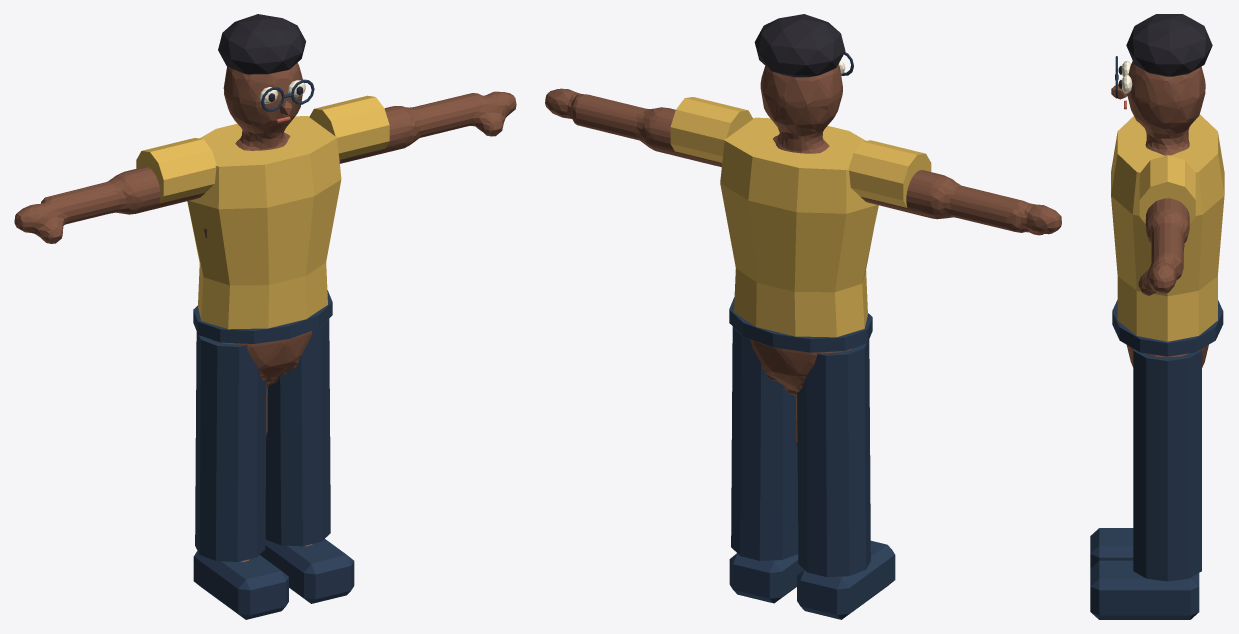
File: Civilian_03.fbx
3 renders of one model, left to right at view 1: azimuth 30°, elevation 25°; view 2: azimuth 150°, elevation 25°; view 3: azimuth 270°, elevation 25°, orthographic. The views are drawn at different scales.
Parts seen in each view (by area): view 1: Shirt.002, Civilian_03_Base_BaseMale_TPose_Body, PantsLeg.004, PantsLeg.005, Shoe.004, HairCap.002, Shoe.005, Sleeve.004, Sleeve.005, Belt.002; view 2: Shirt.002, Civilian_03_Base_BaseMale_TPose_Body, PantsLeg.004, PantsLeg.005, HairCap.002, Shoe.004, Sleeve.004, Sleeve.005, Shoe.005, Belt.002; view 3: PantsLeg.005, Shirt.002, Civilian_03_Base_BaseMale_TPose_Body, Shoe.005, HairCap.002, Sleeve.005, Belt.002, Shoe.004.
Part boxes in pixels (x1=…): Shirt.002: x1=187, y1=116, x2=341, y2=329; Civilian_03_Base_BaseMale_TPose_Body: x1=14, y1=63, x2=516, y2=562; PantsLeg.004: x1=195, y1=332, x2=266, y2=561; PantsLeg.005: x1=265, y1=319, x2=330, y2=546; Shoe.004: x1=193, y1=551, x2=288, y2=619; HairCap.002: x1=218, y1=14, x2=305, y2=74; Shoe.005: x1=260, y1=539, x2=354, y2=603; Sleeve.004: x1=136, y1=138, x2=216, y2=203; Sleeve.005: x1=309, y1=95, x2=389, y2=160; Belt.002: x1=193, y1=290, x2=332, y2=343; Shirt.002: x1=720, y1=117, x2=878, y2=337; Civilian_03_Base_BaseMale_TPose_Body: x1=545, y1=64, x2=1061, y2=446; PantsLeg.004: x1=797, y1=340, x2=870, y2=577; PantsLeg.005: x1=731, y1=326, x2=798, y2=560; HairCap.002: x1=754, y1=14, x2=845, y2=77; Shoe.004: x1=797, y1=540, x2=895, y2=619; Sleeve.004: x1=848, y1=140, x2=931, y2=207; Sleeve.005: x1=670, y1=97, x2=752, y2=162; Shoe.005: x1=729, y1=553, x2=804, y2=603; Belt.002: x1=729, y1=297, x2=872, y2=352; PantsLeg.005: x1=1133, y1=349, x2=1202, y2=581; Shirt.002: x1=1111, y1=114, x2=1224, y2=341; Civilian_03_Base_BaseMale_TPose_Body: x1=1126, y1=61, x2=1208, y2=367; Shoe.005: x1=1090, y1=560, x2=1199, y2=619; HairCap.002: x1=1126, y1=14, x2=1212, y2=76; Sleeve.005: x1=1139, y1=155, x2=1195, y2=223; Belt.002: x1=1112, y1=300, x2=1223, y2=356; Shoe.004: x1=1090, y1=528, x2=1133, y2=568.
Bounding box in the file's own units: 1.68 × 1.82 × 0.3817.
